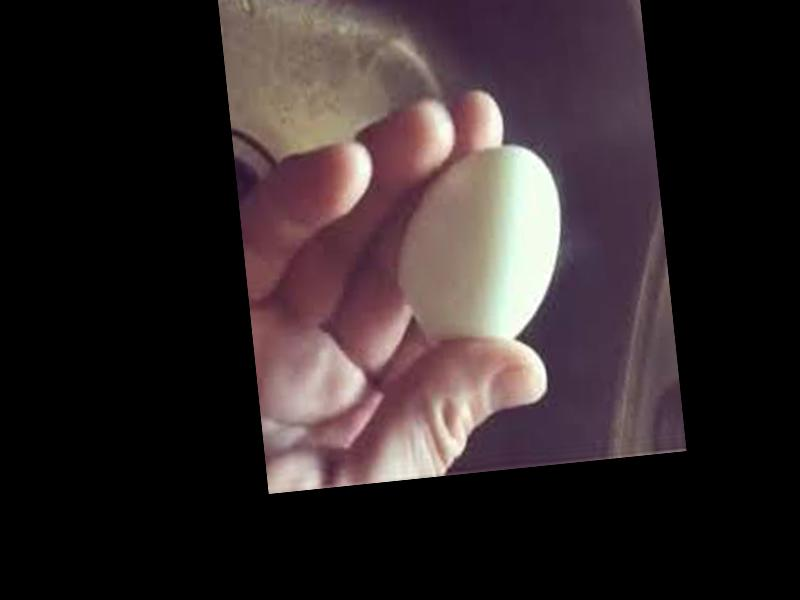Eggs: (389, 139, 573, 351)
